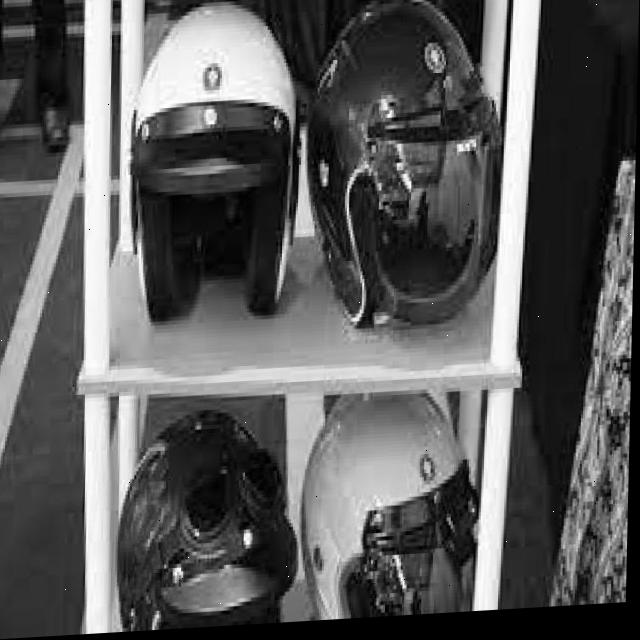Helmet: (306, 0, 492, 341), (120, 3, 304, 328), (107, 390, 303, 634), (306, 389, 487, 625)
